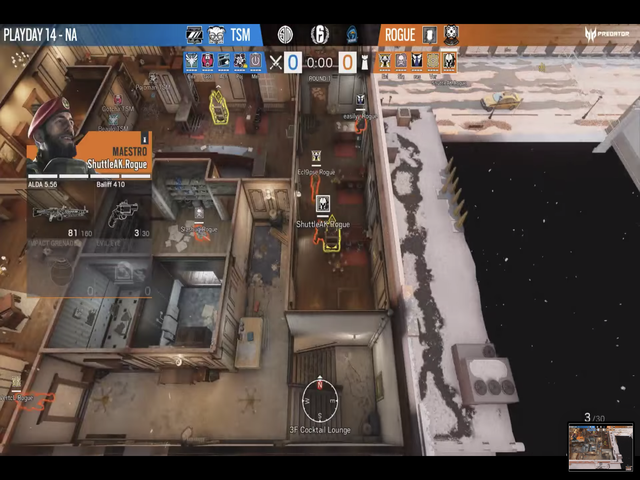0_blue: (284, 51, 302, 74)
